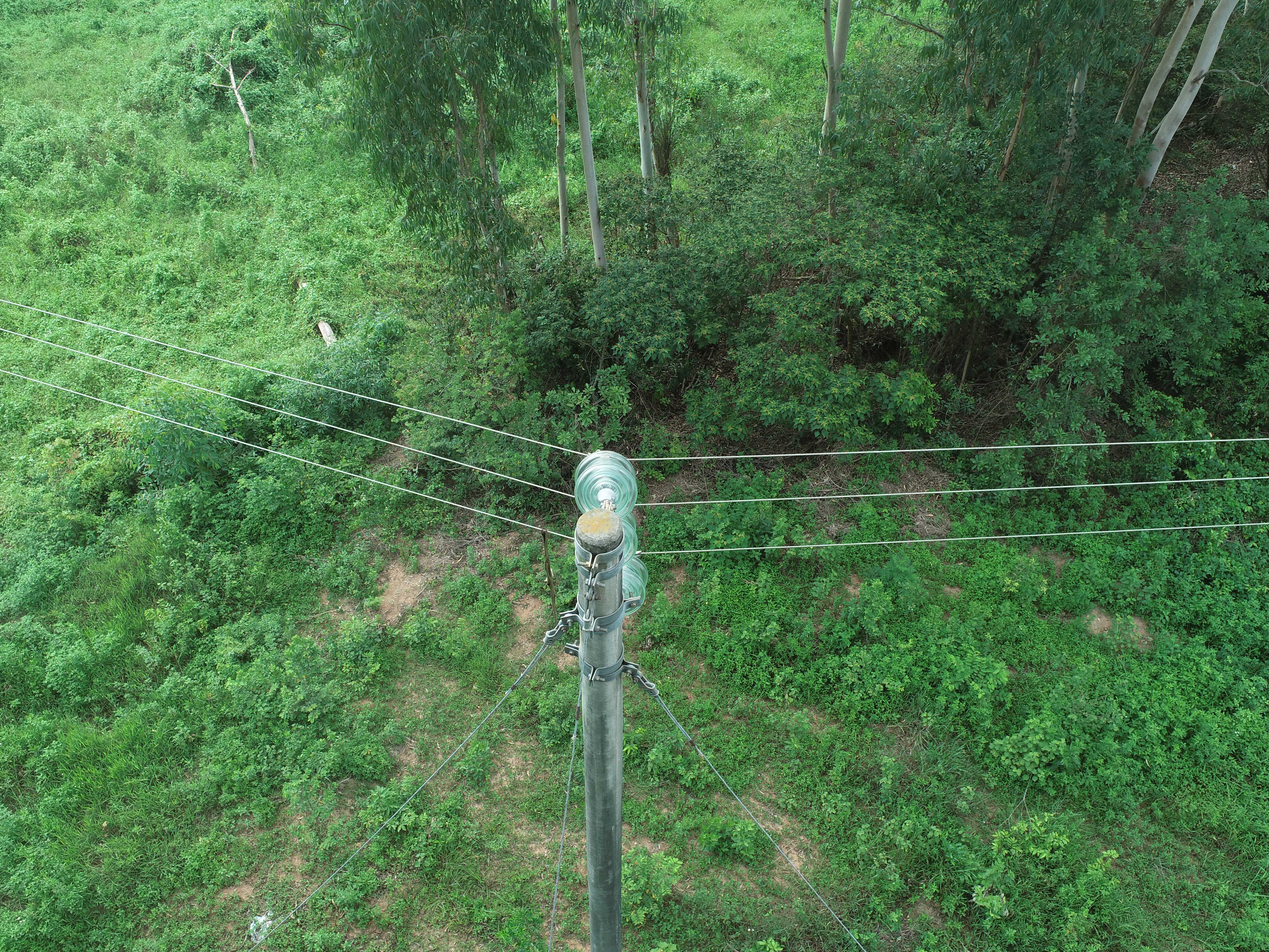异物: (541, 529, 557, 627)
